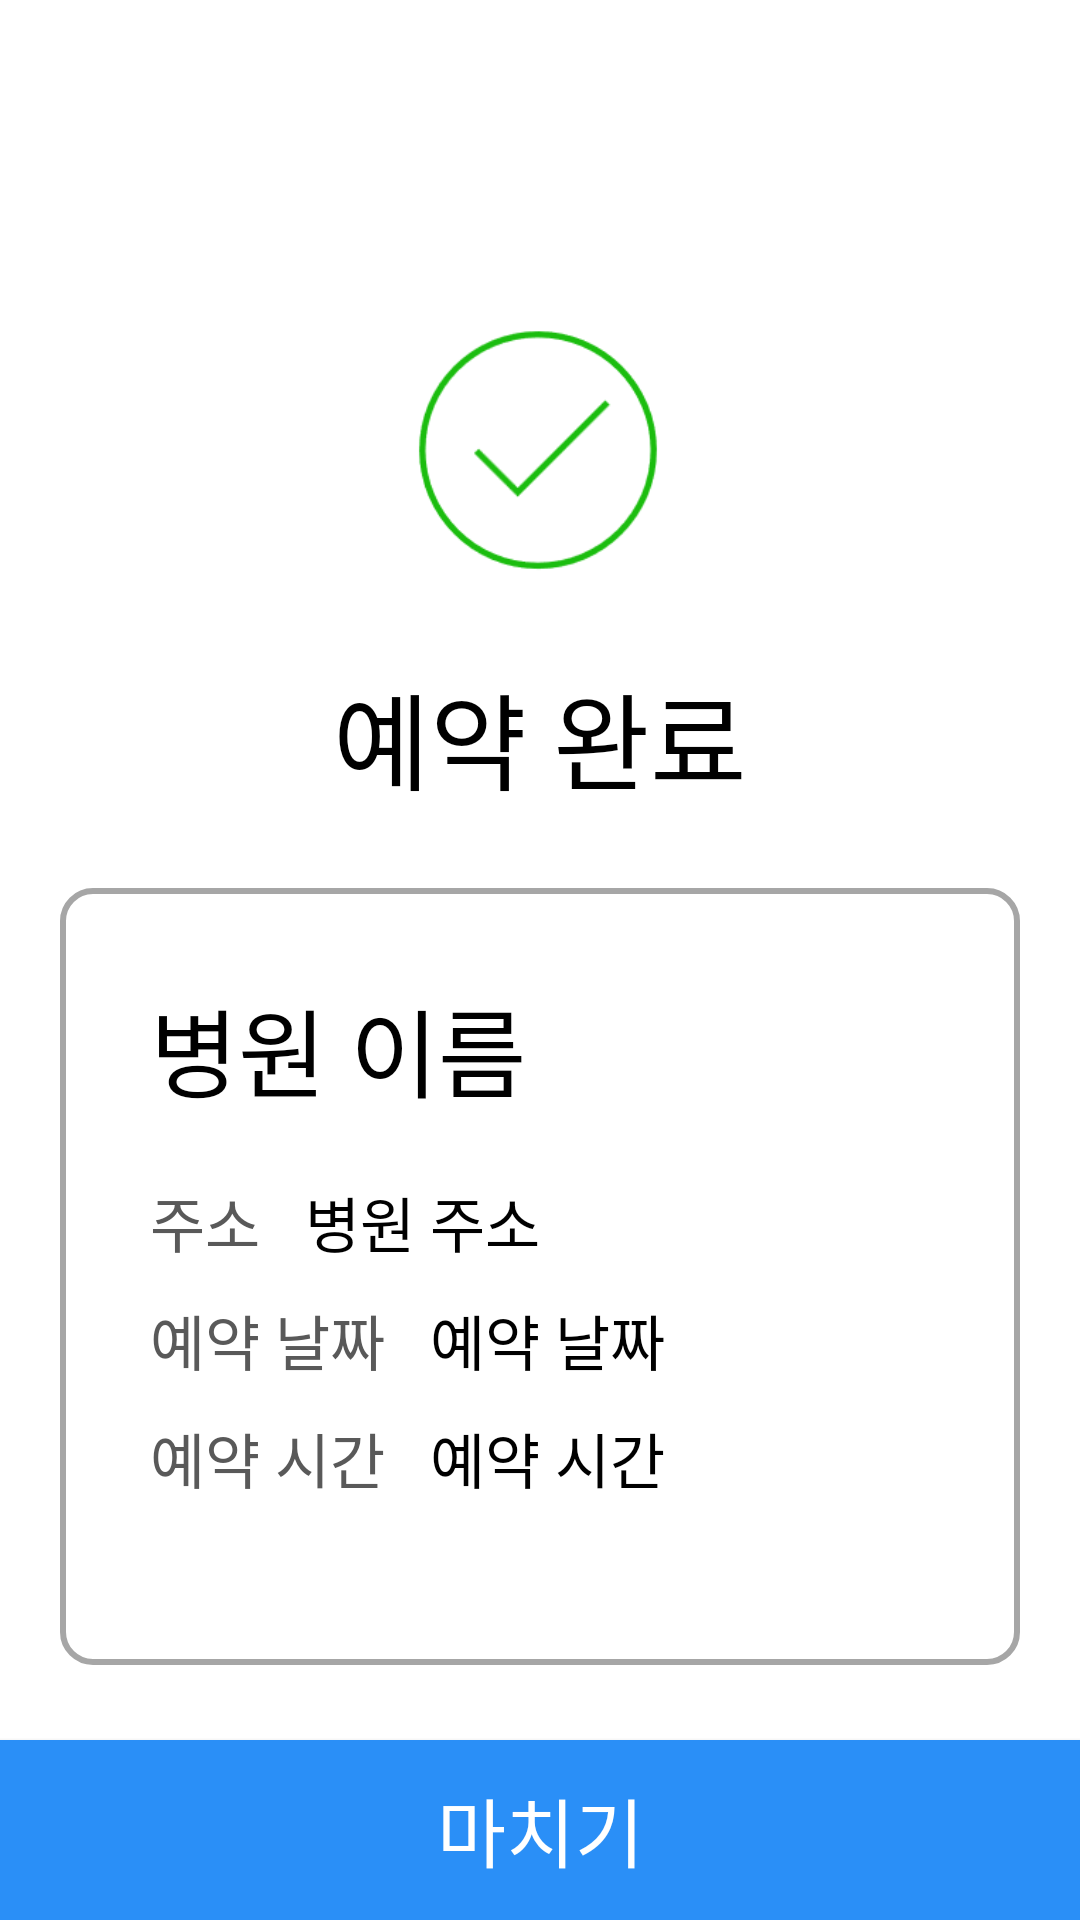

Where icons sit on this 1080w x 1920h app screen, as BBox(x1, y1, x2, y2):
done: BBox(419, 331, 657, 569)
